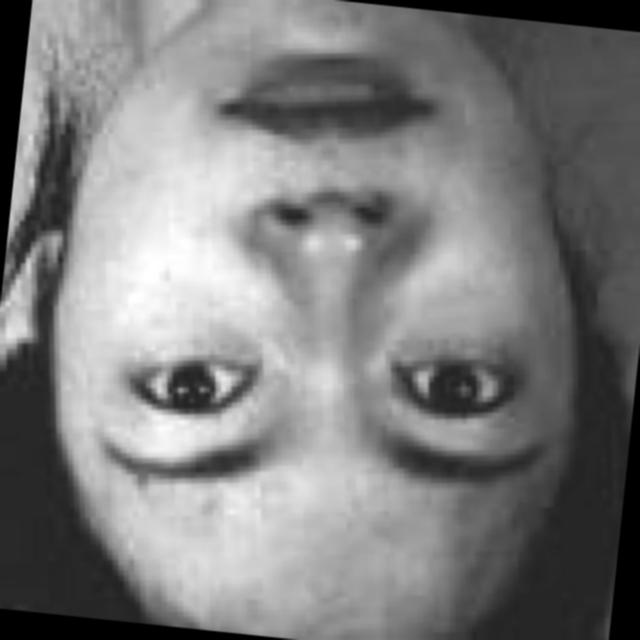fear: (44, 0, 615, 614)
